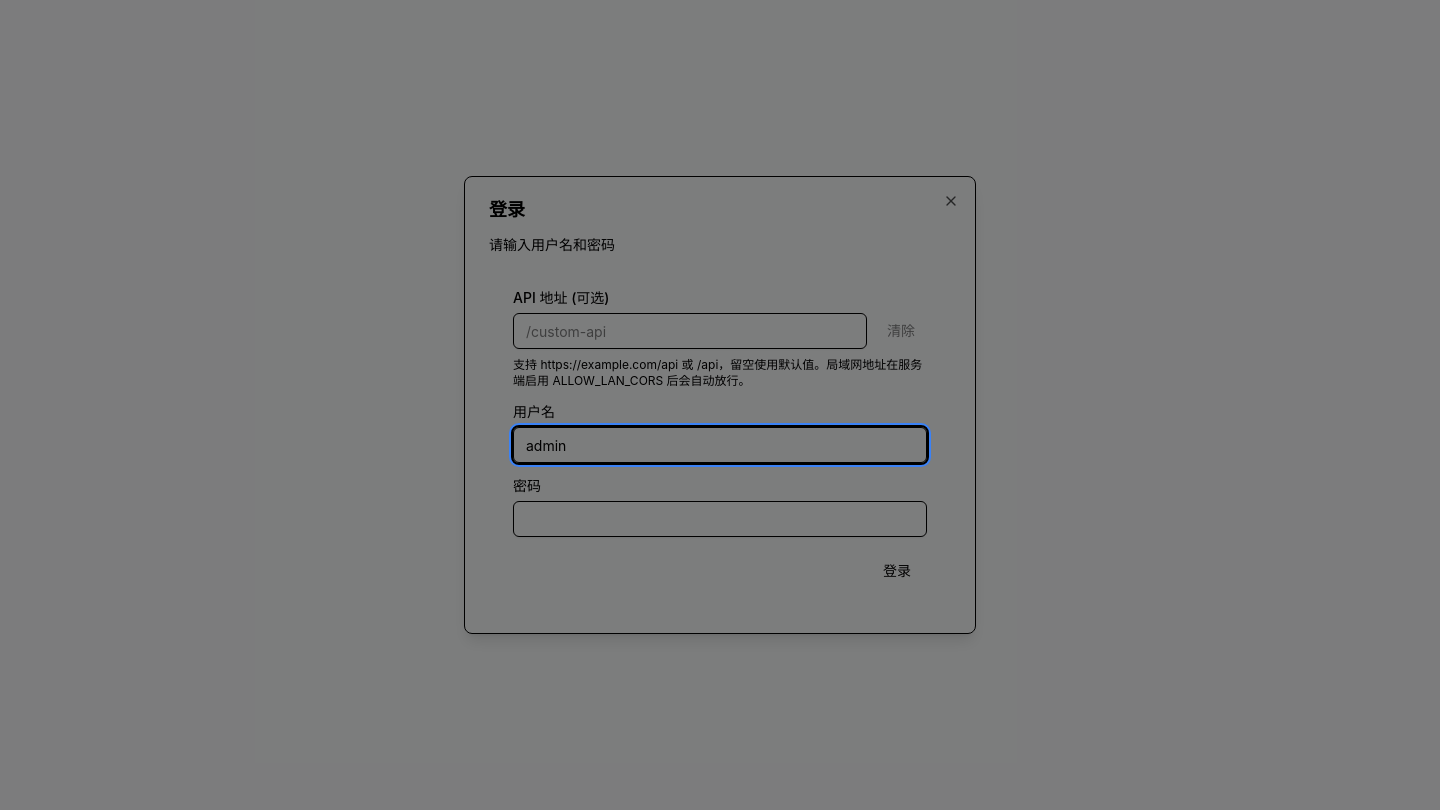
Test: WebLoginDialog › shows password error for 401 responses
Type "wrong" into the password field labelled "密码" at (720, 519), box [513,501,927,537]
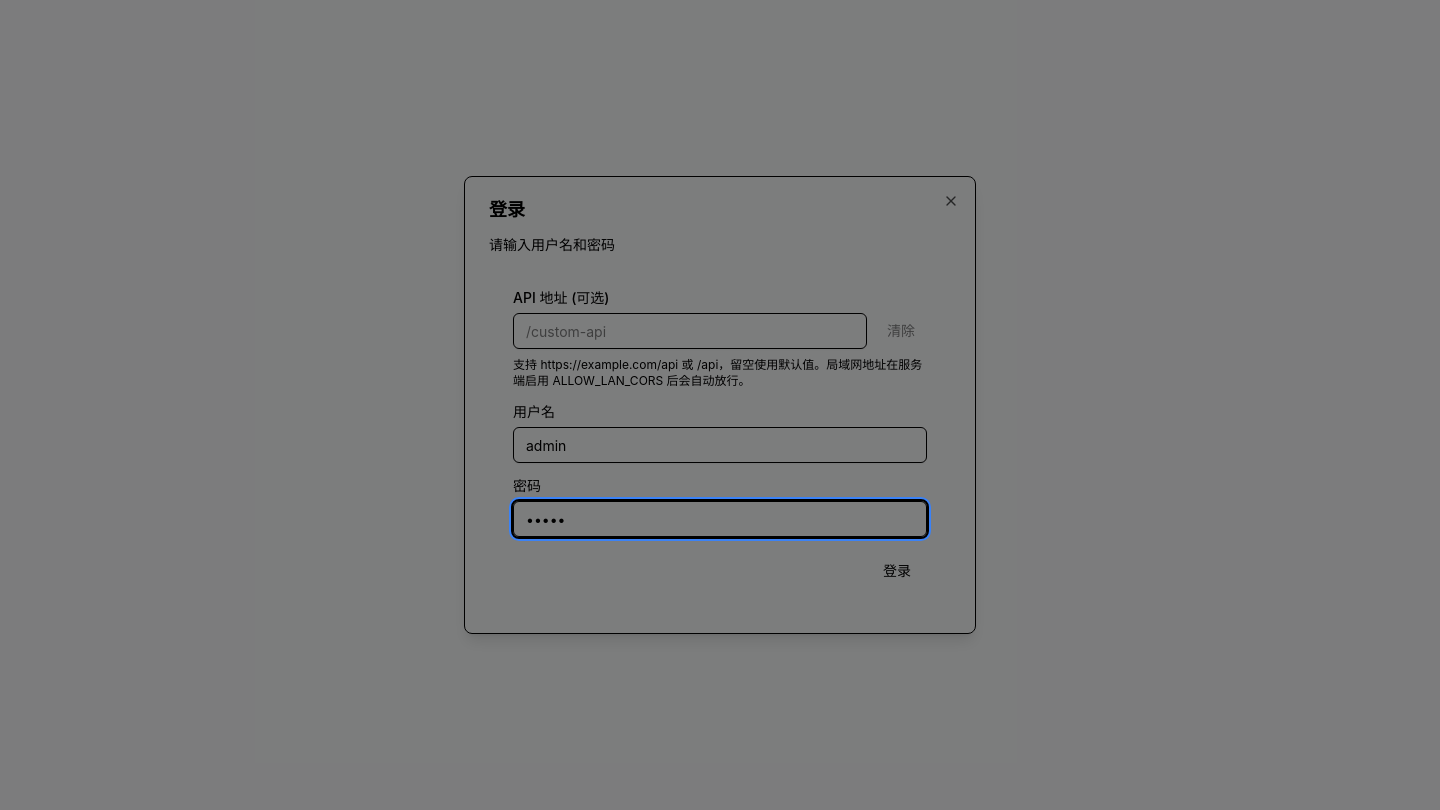
Click the button "登录" at (897, 571), box [867,553,927,589]
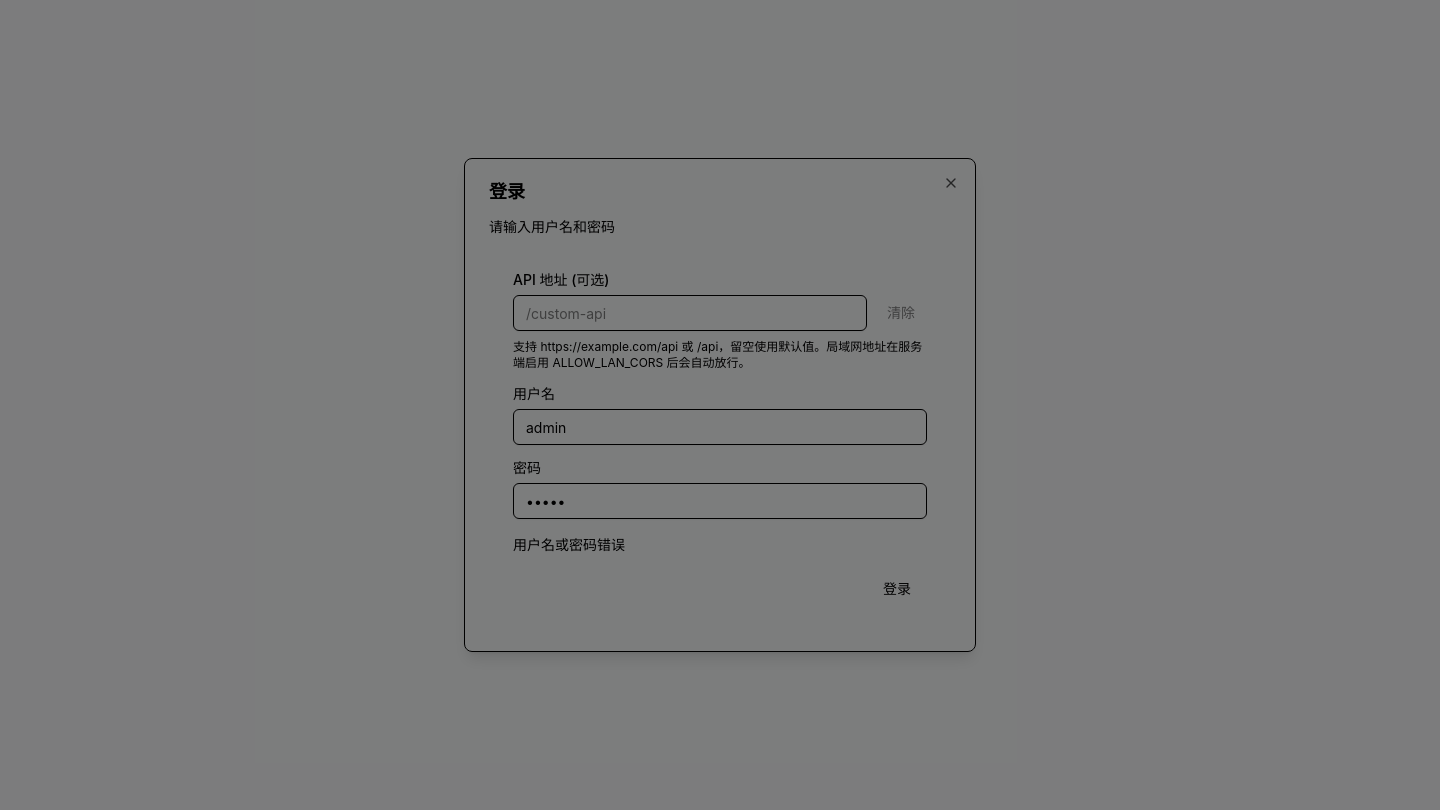
Expected: the text "用户名或密码错误" is shown, [513,536,625,553]
